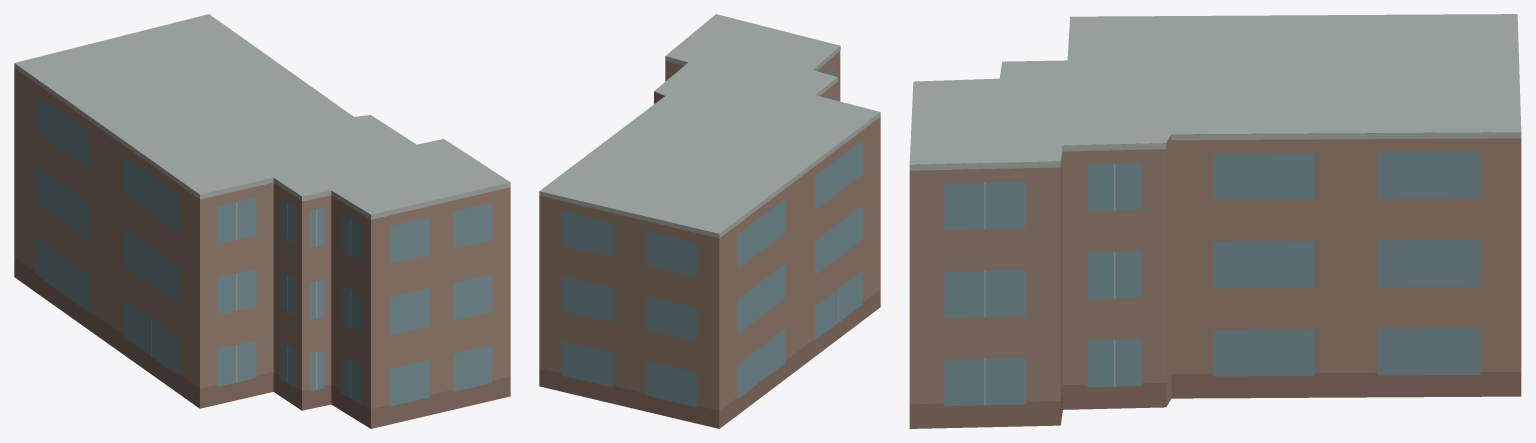
Rendered from survey-upis-32993556.glb.
3 views of the same model, side by side, from view 1: azimuth 30°, elevation 25°; view 2: azimuth 150°, elevation 25°; view 3: azimuth 270°, elevation 25° (orthographic). The views are drawn at different scales.
Visible parts, largest first — view 1: survey-upis-32993556.tmp; view 2: survey-upis-32993556.tmp; view 3: survey-upis-32993556.tmp.
Part boxes in pixels (left/top/right/bottom): survey-upis-32993556.tmp: left=14, top=14, right=510, bottom=428; survey-upis-32993556.tmp: left=539, top=14, right=880, bottom=428; survey-upis-32993556.tmp: left=909, top=14, right=1521, bottom=428.
Size of the model in its own units: 12.97 by 10.6 by 22.25.
